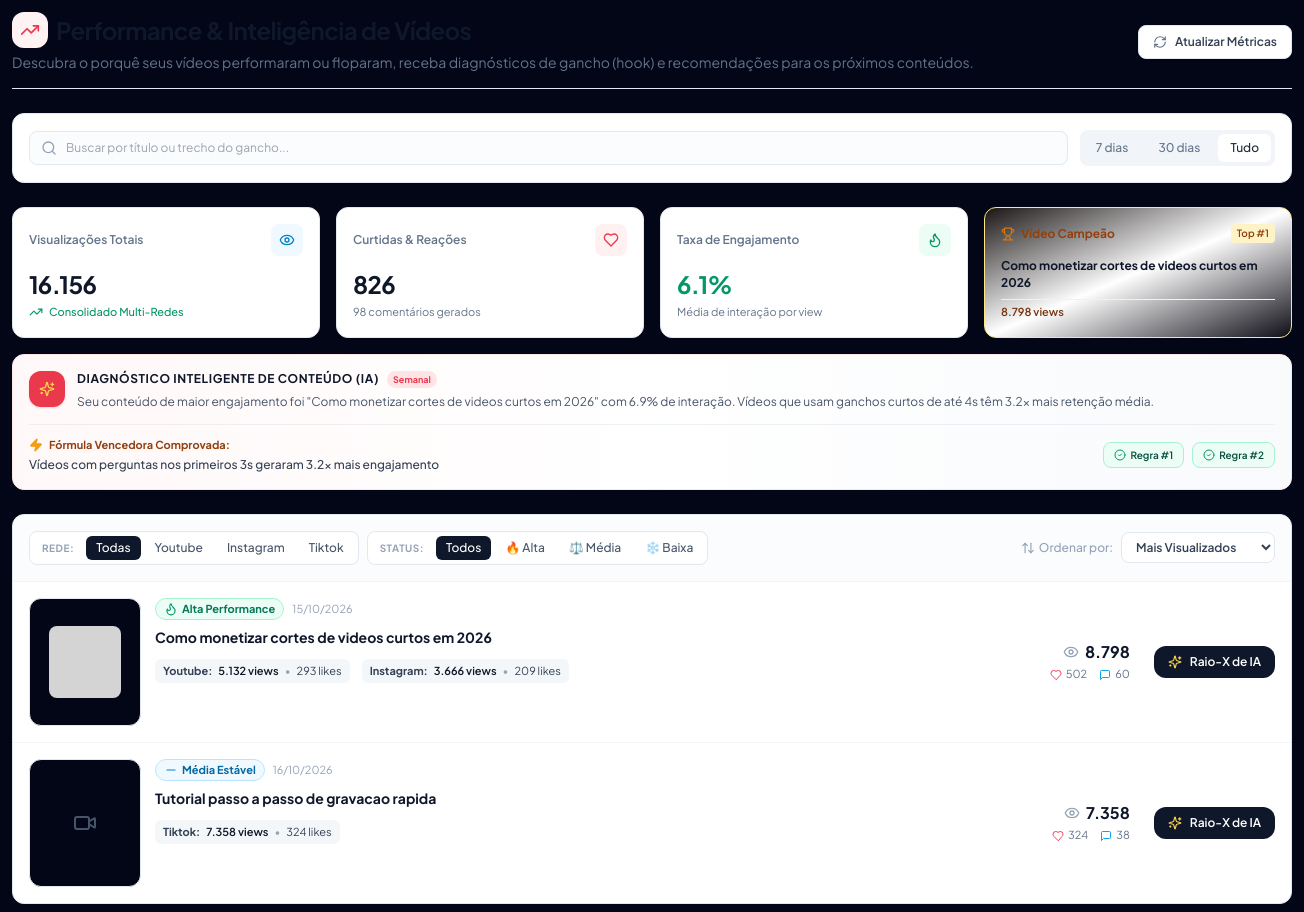
Scenario: AnalyticsDashboard Component › filters video list by social platform tab
Check: the element with test id "video-perf-item-1" is shown, box top-left (13, 582), bottom-right (1291, 742)
Clica no filtro de TikTok
Click the button with test id "filter-plat-tiktok" at (326, 548), box top-left (299, 536), bottom-right (354, 560)
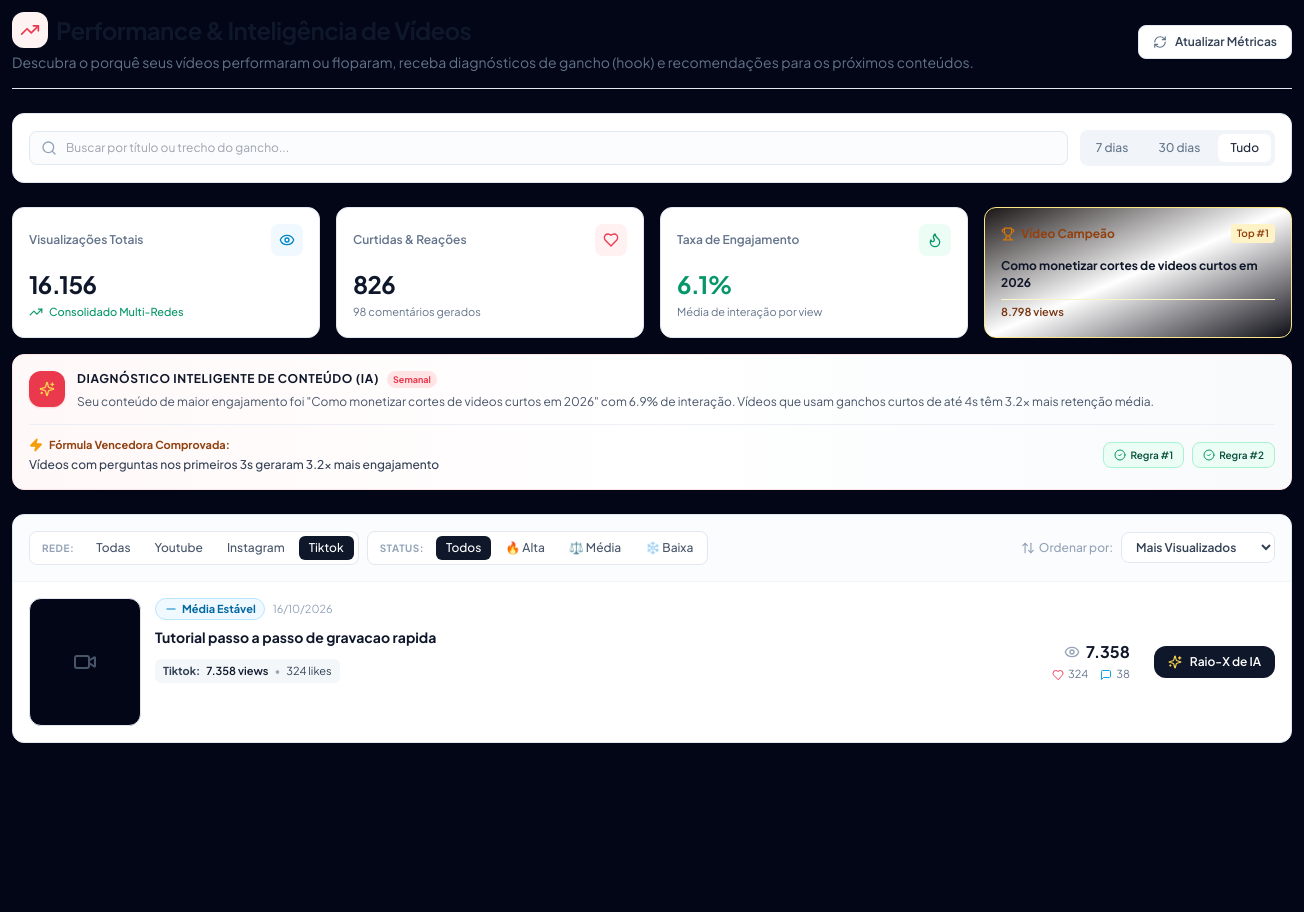
Check: the element with test id "video-perf-item-2" is shown, box top-left (13, 582), bottom-right (1291, 742)
Check: the element with test id "video-perf-item-1" is gone
Click the button with test id "filter-plat-all" at (113, 548), box top-left (86, 536), bottom-right (140, 560)
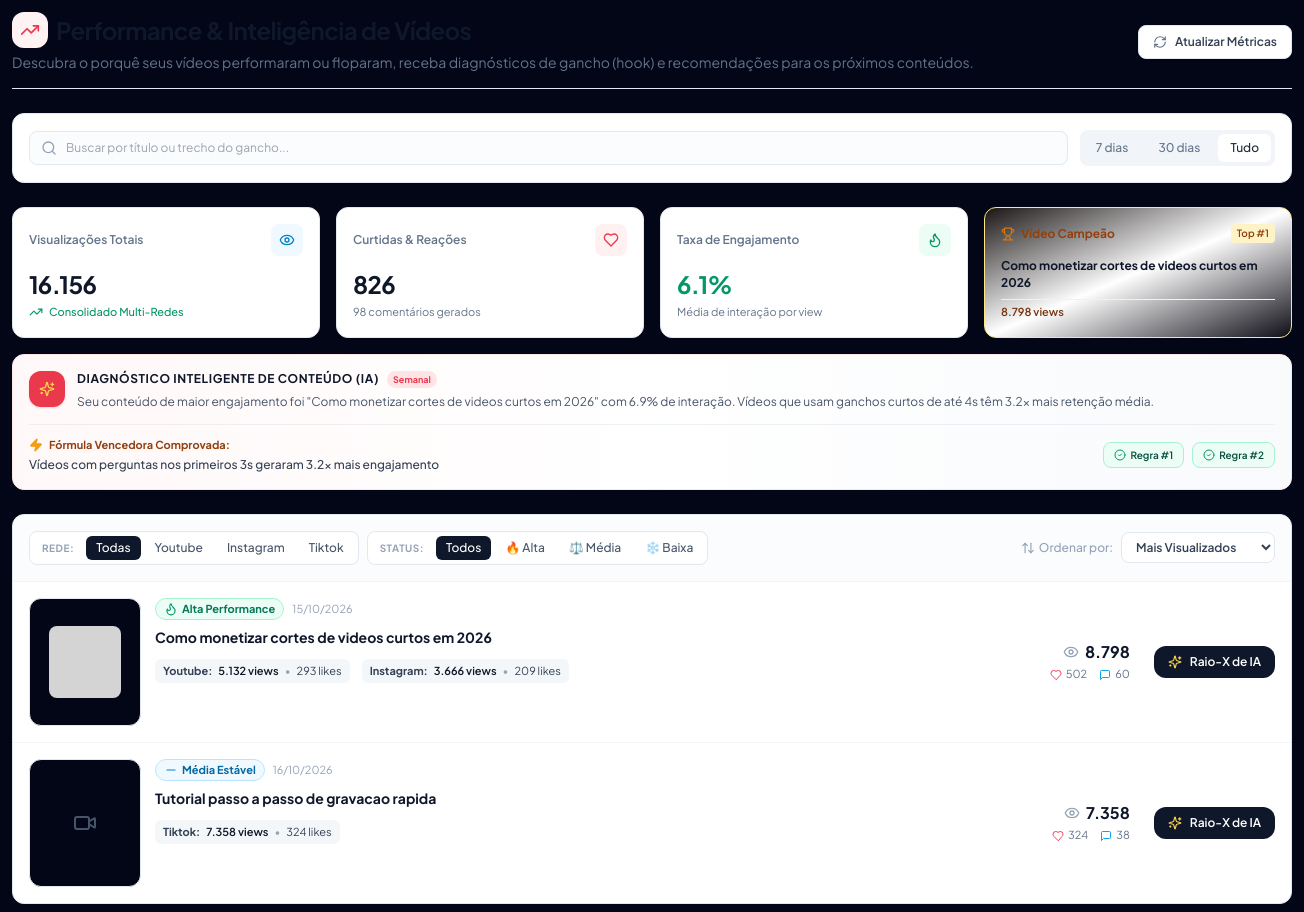
Check: the element with test id "video-perf-item-1" is shown, box top-left (13, 582), bottom-right (1291, 742)
